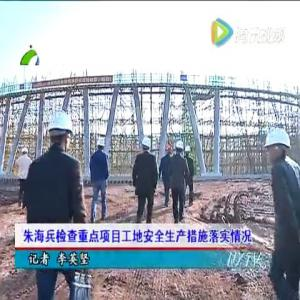red: (166, 145, 174, 157)
white: (267, 127, 291, 167), (48, 113, 72, 151), (141, 135, 152, 154), (176, 140, 185, 155), (98, 137, 106, 151), (22, 146, 29, 158), (185, 145, 192, 157)
